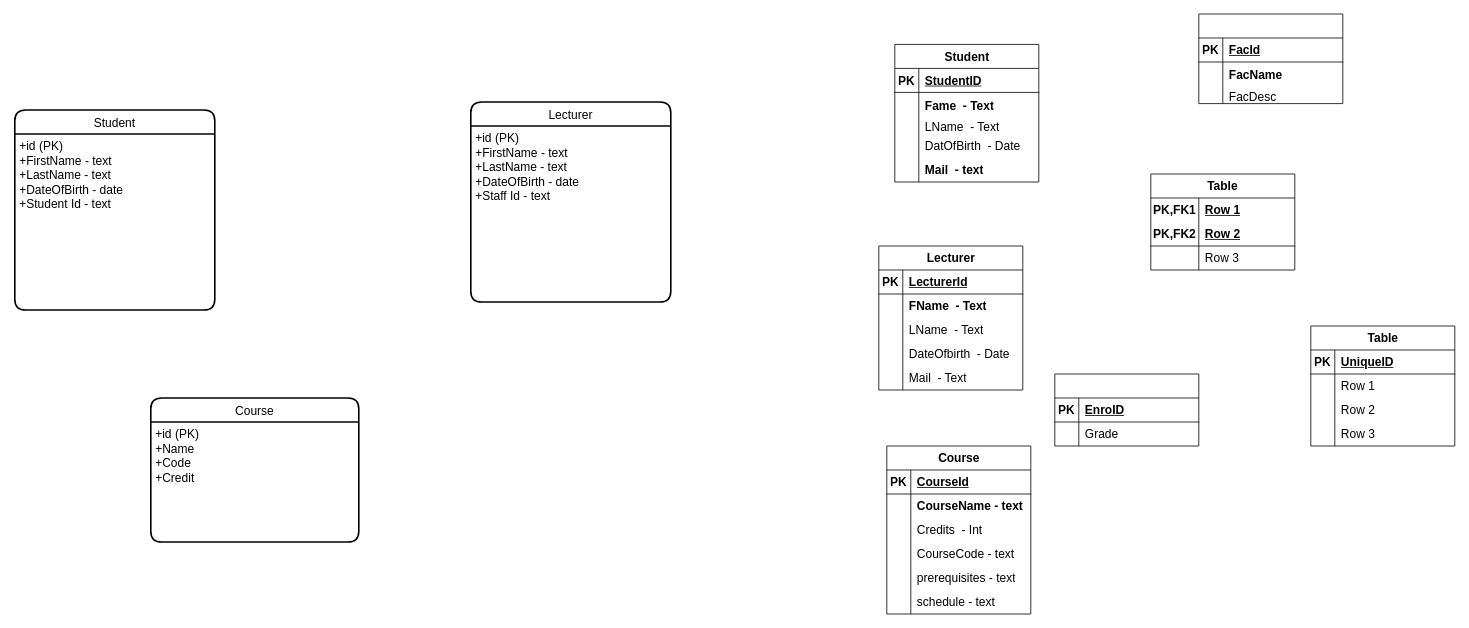
Some shapes in this 1469 by 628 pixel diagram are drawn without their labels. The box of each missing label's shape, as (x1, y1, x2, y2) in pixels:
Enrollment: (1054, 373, 1199, 446)
Faculity: (1198, 13, 1343, 104)
